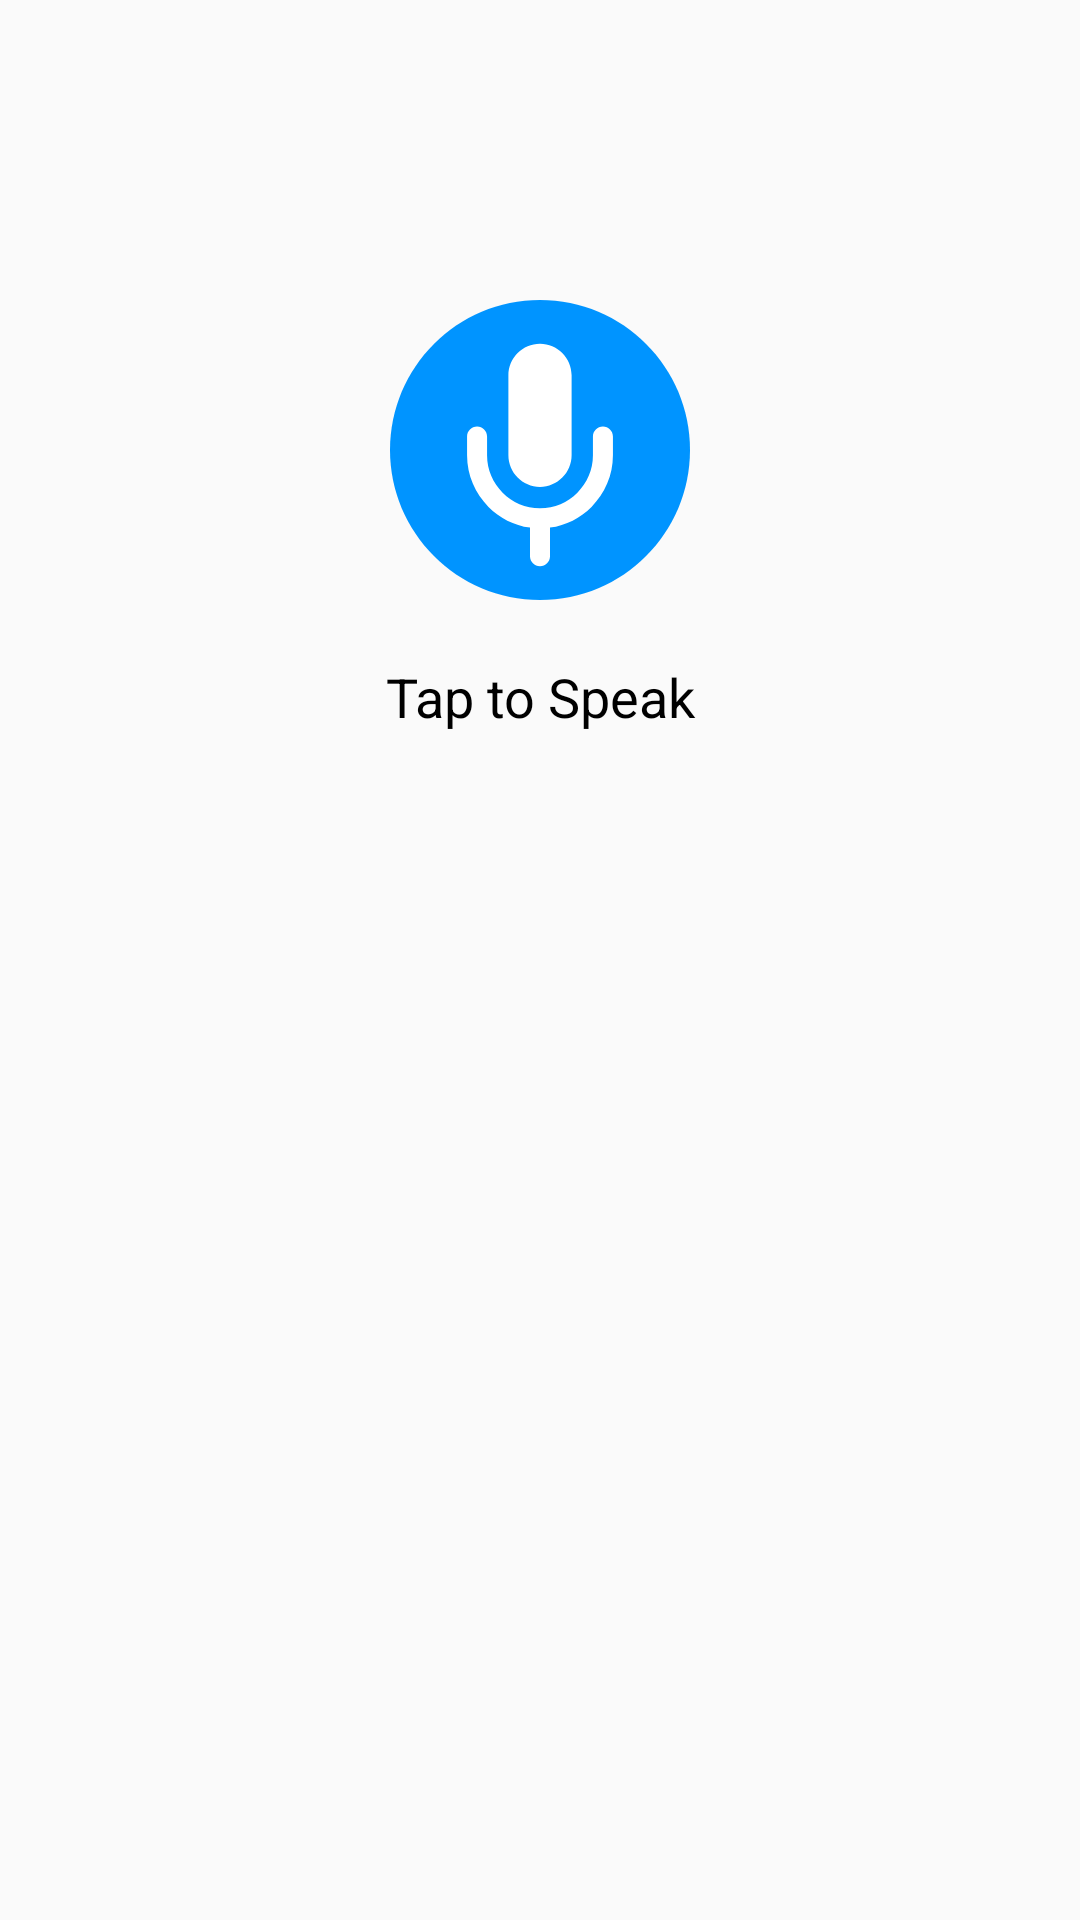

Screen size 1080 x 1920. Icon name, then its center in pixels as (x=x, y=y):
mic: (x=540, y=450)
